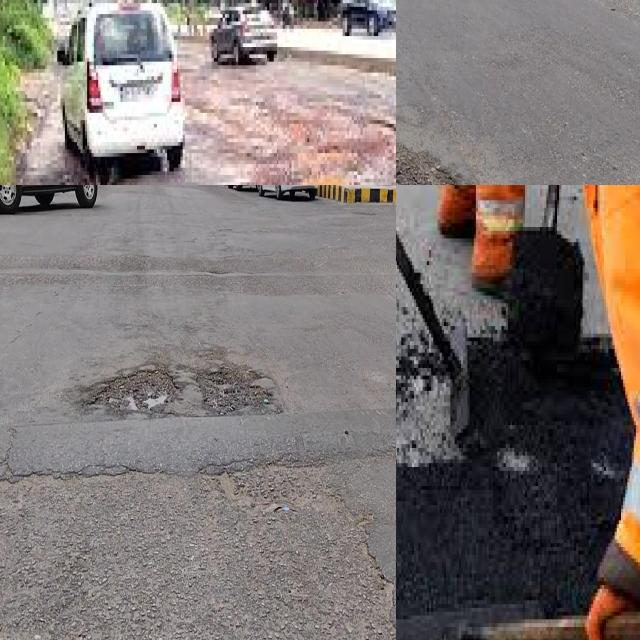Pothole: (85, 369, 181, 417), (195, 366, 270, 414), (396, 421, 455, 463)
